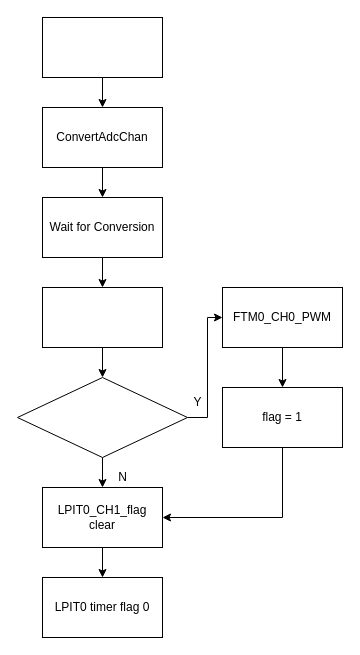
Image size: 360x655. Some labels were removed from this diagram. Each missing label, with the centre of its shape:
"adcResultInMV2 < 2500?" goes at pixel 102 417.
"adcResultInMv2 read" goes at pixel 102 317.
"LPIT0_CH1_flag ++" goes at pixel 102 47.
